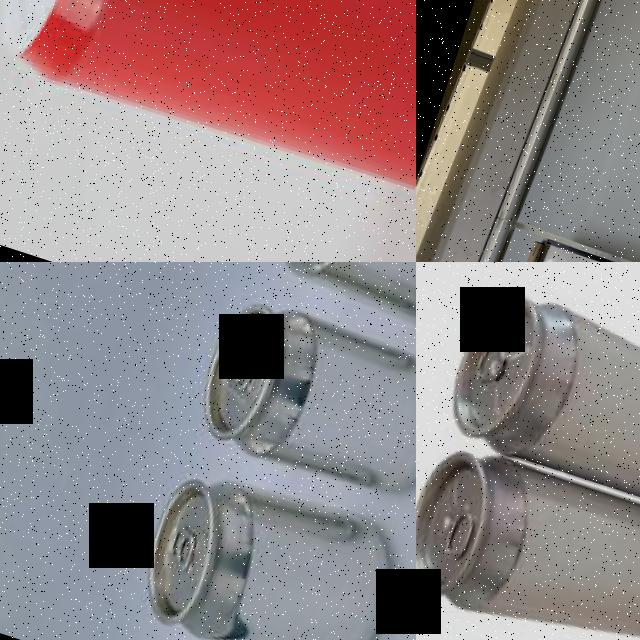can: (0, 0, 416, 222), (434, 278, 640, 541), (132, 456, 414, 640), (192, 290, 416, 511), (416, 433, 640, 640), (246, 262, 416, 344)
